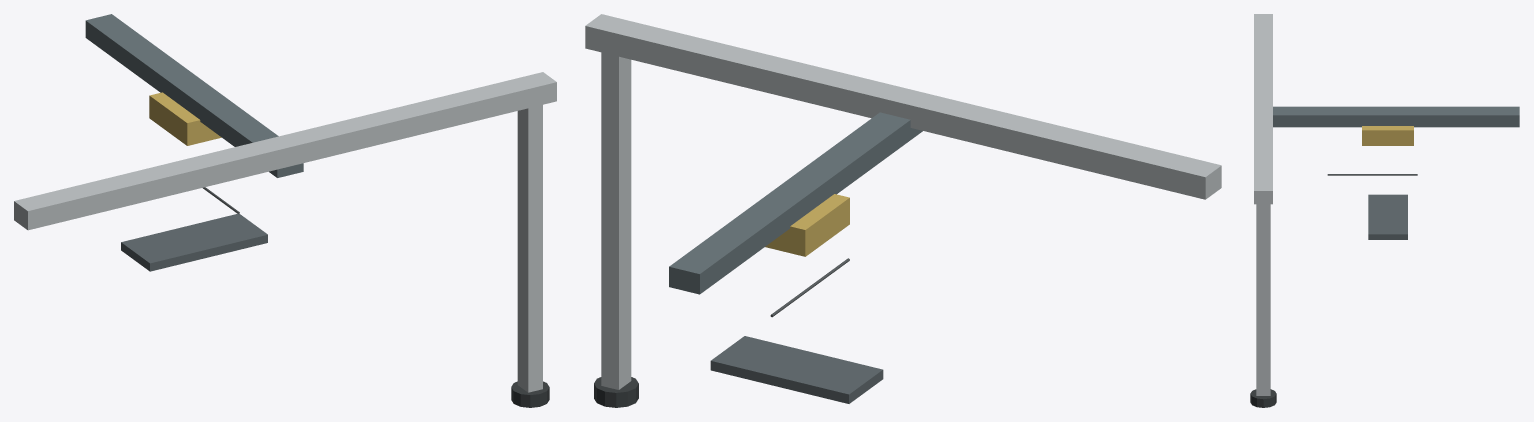
The model's file is rtg-lod0.glb.
The picture shows the model from 3 angles, left to right: view 1: azimuth 30°, elevation 25°; view 2: azimuth 150°, elevation 25°; view 3: azimuth 270°, elevation 25°; orthographic projection. The views are drawn at different scales.
Visible parts, largest first — view 1: top-girder, bridge, leg, spreader, trolley, wheel; view 2: top-girder, bridge, leg, spreader, trolley, wheel; view 3: bridge, top-girder, leg, spreader, trolley, wheel.
Part boxes in pixels (x1,y1,x2,y2): top-girder: (14,72,556,230); bridge: (85,14,303,177); leg: (517,105,542,392); spreader: (121,214,267,271); trolley: (149,92,221,145); wheel: (511,381,549,407); top-girder: (585,14,1221,199); bridge: (669,112,922,294); leg: (601,52,631,389); spreader: (710,336,883,403); trolley: (765,194,849,256); wheel: (594,377,638,407); bridge: (1273,106,1519,127); top-girder: (1254,14,1272,204); leg: (1256,204,1270,395); spreader: (1368,194,1407,239); trolley: (1362,126,1413,145); wheel: (1250,389,1276,407).
Bounding box in the file's own units: 12.1 × 6.95 × 7.78.
